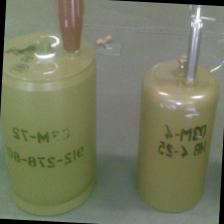OZM-72: (0, 27, 100, 220), (136, 50, 218, 218)
